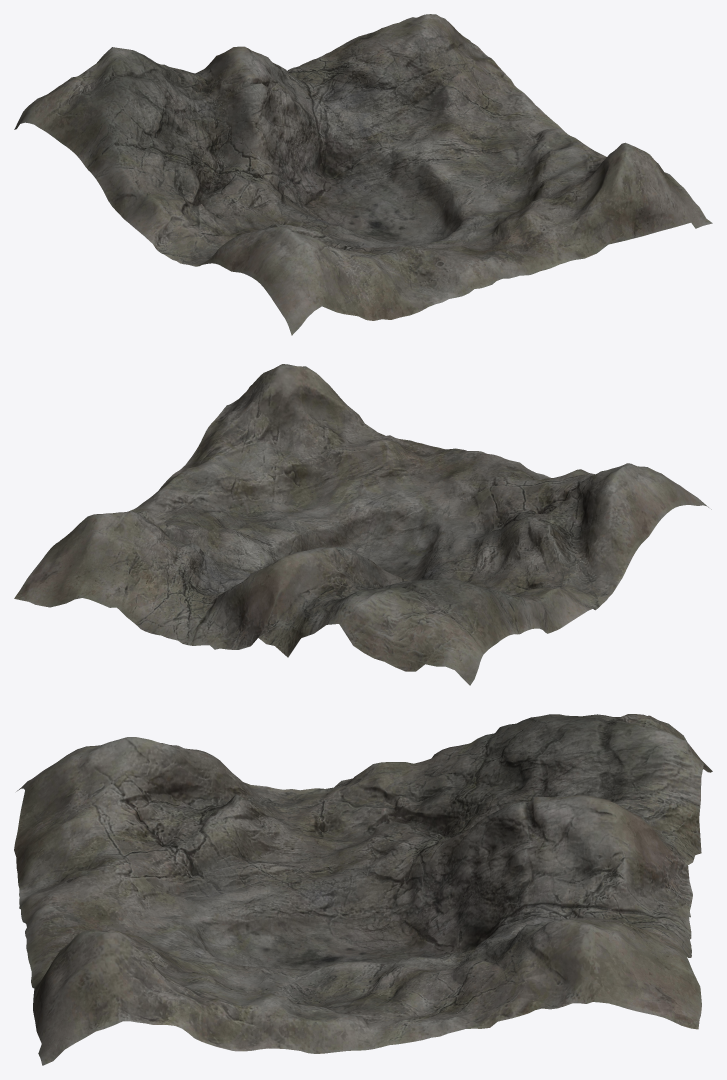
Rendered from Keireysh_Lvl01_Ground.obj.
The picture shows the model from 3 angles, top to bottom: view 1: azimuth 30°, elevation 25°; view 2: azimuth 150°, elevation 25°; view 3: azimuth 270°, elevation 25°; orthographic projection. The views are drawn at different scales.
Visible parts, largest first — view 1: RetopoFlow; view 2: RetopoFlow; view 3: RetopoFlow.
Boxes of the visible parts, x1=… form: RetopoFlow: x1=14, y1=14, x2=712, y2=335; RetopoFlow: x1=14, y1=364, x2=711, y2=685; RetopoFlow: x1=14, y1=714, x2=712, y2=1065.
Size of the model in its own units: 178 by 42.8 by 182.
